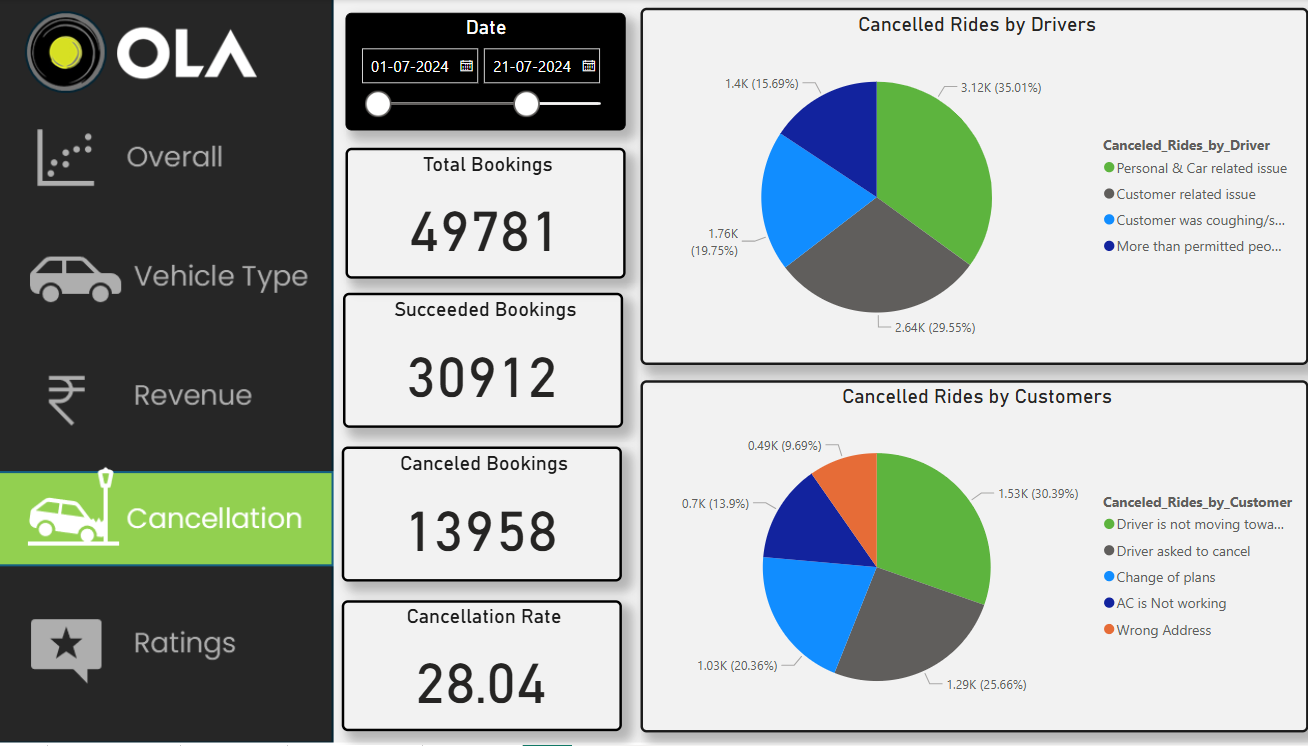

Layout of this report page (visuals, bound fields, positions):
{"tool":"powerbi","page":{"name":"Cancellation","canvas":[1280,720],"ordinal":3},"visuals":[{"type":"actionButton","box":[0,224,324,92],"z":0},{"type":"actionButton","box":[0,334,324,92],"z":1000},{"type":"actionButton","box":[0,218,324,92],"z":2000},{"type":"actionButton","box":[0,572,324,92],"z":3000},{"type":"actionButton","box":[0,106,324,92],"z":4000},{"type":"pieChart","title":"Cancelled Rides by Drivers","fields":{"Category":["July.Canceled_Rides_by_Driver"],"Y":["CountNonNull(July.Canceled_Rides_by_Customer)"]},"box":[620,8.3,645,345],"z":5000},{"type":"pieChart","title":"Cancelled Rides by Customers","fields":{"Category":["July.Canceled_Rides_by_Customer"],"Y":["CountNonNull(July.Canceled_Rides_by_Customer)"]},"box":[620,368.3,645,340],"z":6000},{"type":"slicer","title":"Date","fields":{"Values":["July.Date"]},"box":[335,13.3,270,113.3],"z":7000},{"type":"card","title":"Total Bookings","fields":{"Values":["Count(July.Booking_ID)"]},"box":[335,143.3,270,126.7],"z":8000},{"type":"card","title":"Succeeded Bookings","fields":{"Values":["Count(July.Booking_ID)"]},"box":[333.3,283.3,270,130],"z":9000},{"type":"card","title":"Canceled Bookings","fields":{"Values":["Count(July.Booking_ID)"]},"box":[331.7,431.7,270,130],"z":10000},{"type":"card","title":"Cancellation Rate","fields":{"Values":["July.CanceledPercentage"]},"box":[331.7,580,270,126.7],"z":11000}]}

Visuals, with their boxes in screenshot pixels (x1, y1, x2, y2), scaled from the page's 1280x720 canvas onto the 1308x746 screenshot:
actionButton: BBox(0, 232, 331, 327)
actionButton: BBox(0, 346, 331, 441)
actionButton: BBox(0, 226, 331, 321)
actionButton: BBox(0, 593, 331, 688)
actionButton: BBox(0, 110, 331, 205)
"Cancelled Rides by Drivers" pieChart: BBox(634, 9, 1293, 366)
"Cancelled Rides by Customers" pieChart: BBox(634, 382, 1293, 734)
"Date" slicer: BBox(342, 14, 618, 131)
"Total Bookings" card: BBox(342, 148, 618, 280)
"Succeeded Bookings" card: BBox(341, 294, 616, 428)
"Canceled Bookings" card: BBox(339, 447, 615, 582)
"Cancellation Rate" card: BBox(339, 601, 615, 732)
